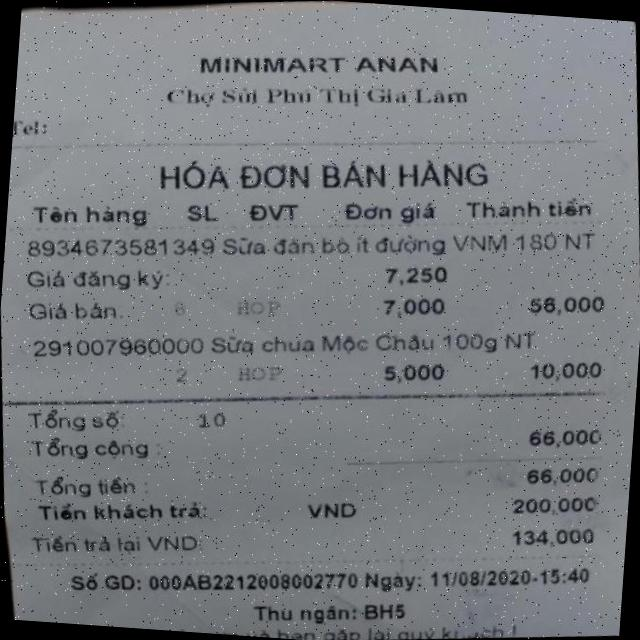Date: (417, 553, 532, 597)
Store_Name: (167, 26, 464, 101)
amount_number: (516, 415, 611, 457)
label_total: (28, 423, 154, 470)
